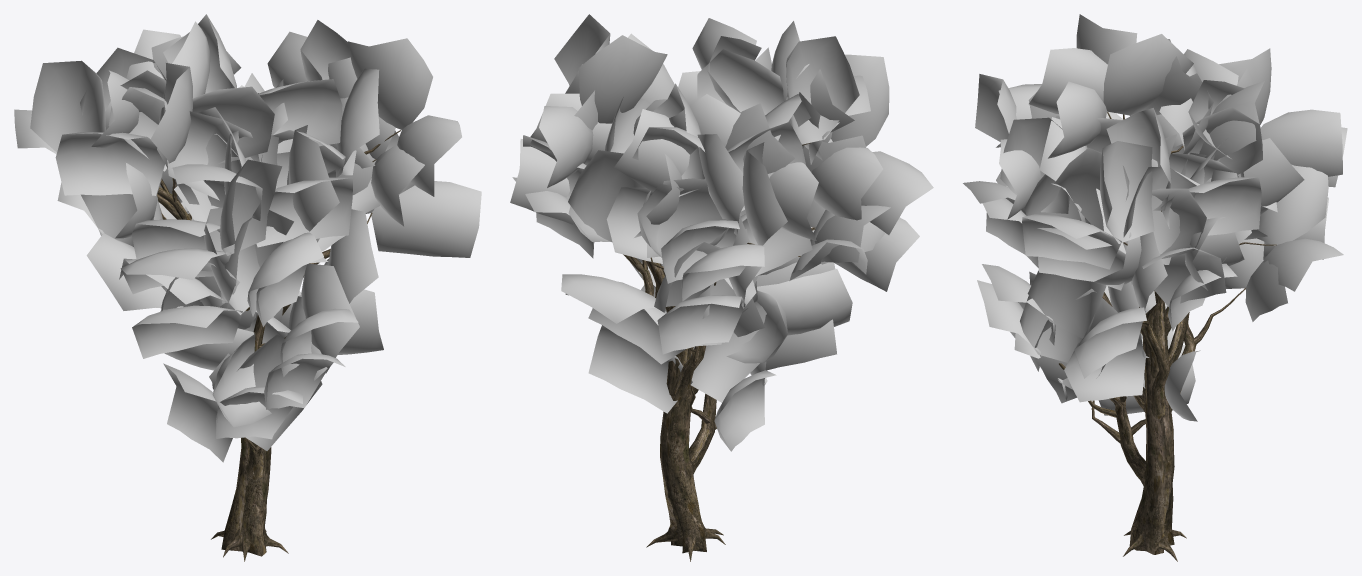
File: Tree_mangro2.fbx
3 views of the same model, side by side, from view 1: azimuth 30°, elevation 25°; view 2: azimuth 150°, elevation 25°; view 3: azimuth 270°, elevation 25° (orthographic). The views are drawn at different scales.
Parts seen in each view (by area): view 1: LOD0; view 2: LOD0; view 3: LOD0.
Boxes of the visible parts, <box> form: LOD0: <box>14,14,481,561</box>; LOD0: <box>510,14,933,561</box>; LOD0: <box>963,14,1347,561</box>.
Size of what is drawn, in the model's own units: 66.04 by 87.55 by 61.46.
